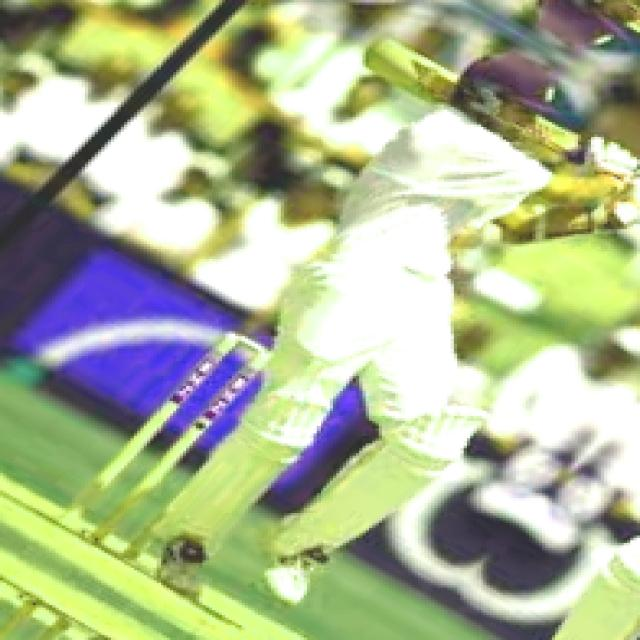toe: (359, 35, 389, 73)
